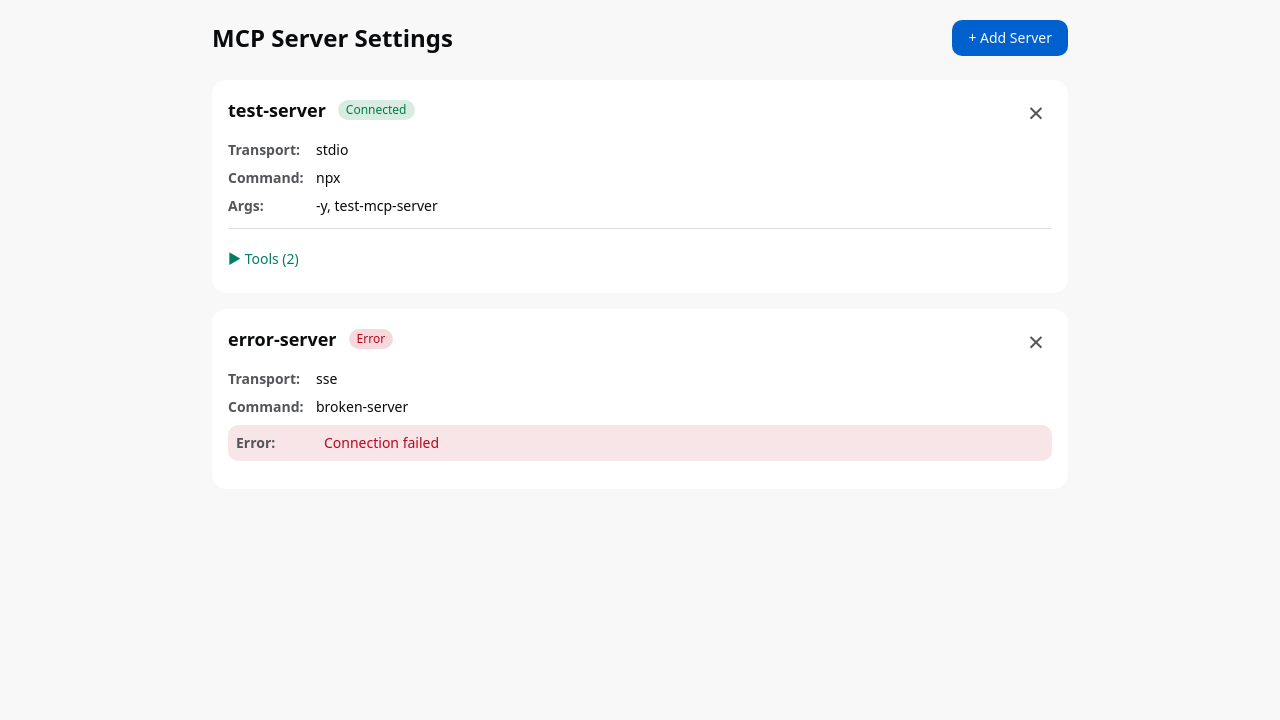
Test: MCPSettings › adding servers › should reset form after successful submission
This screenshot has width=1280, height=720.
Click the button "+ Add Server" at (1010, 38), box left=952, top=20, right=1068, bottom=56
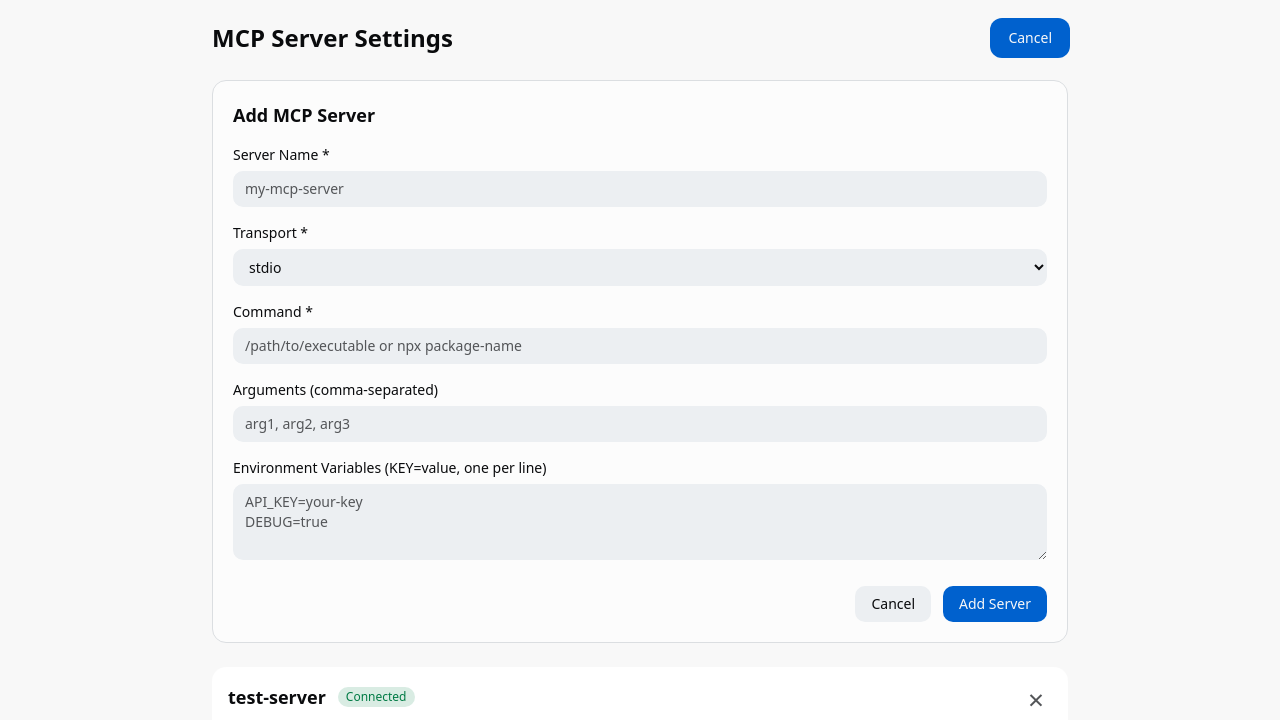
Type "test-server" into the field labelled "Server Name *" at (640, 189), box left=233, top=171, right=1047, bottom=207
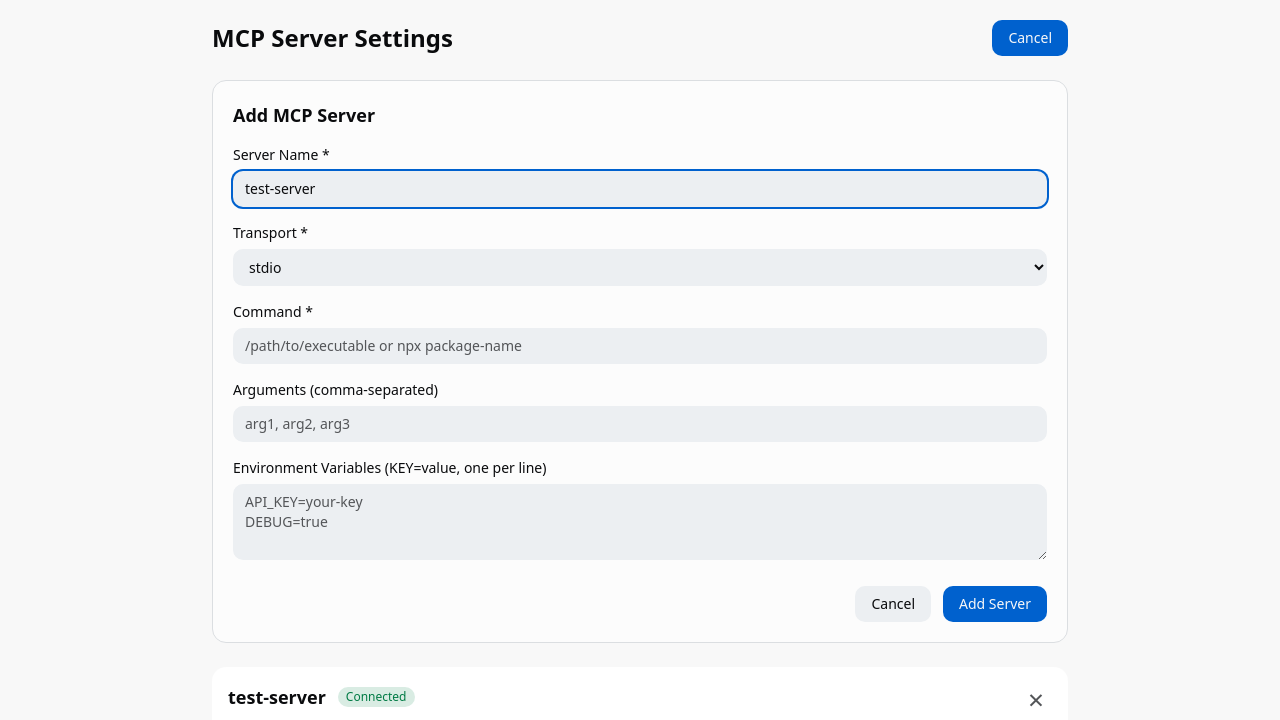
Type "test-cmd" into the field labelled "Command *" at (640, 346), box left=233, top=328, right=1047, bottom=364
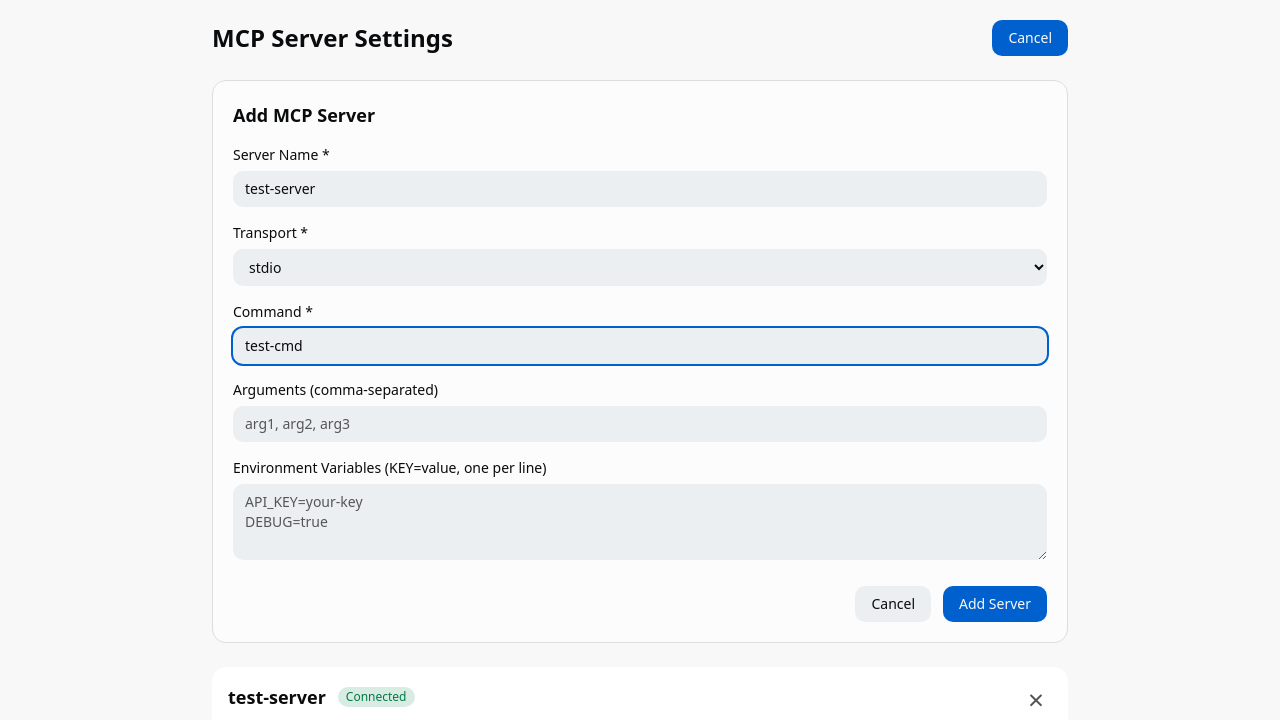
Type "arg1" into the field labelled "Arguments (comma-separated)" at (640, 424), box left=233, top=406, right=1047, bottom=442
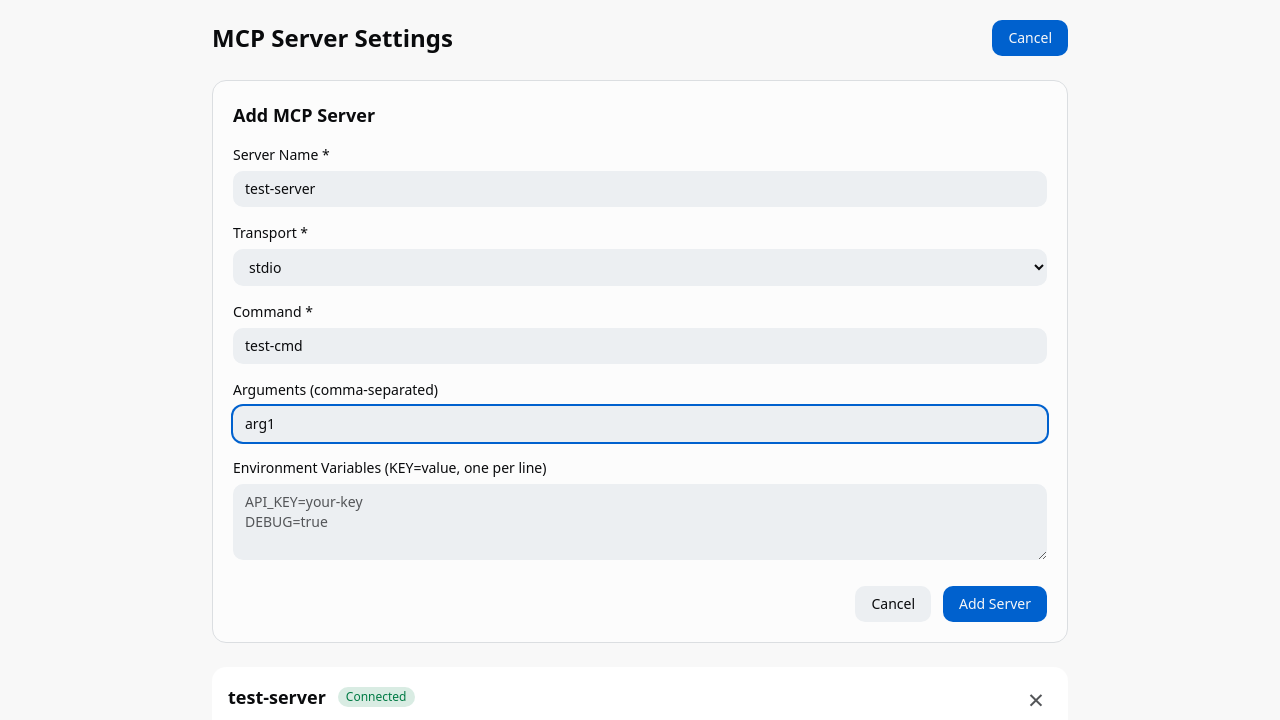
Click the button "Add Server" at (995, 604), box left=943, top=586, right=1047, bottom=622
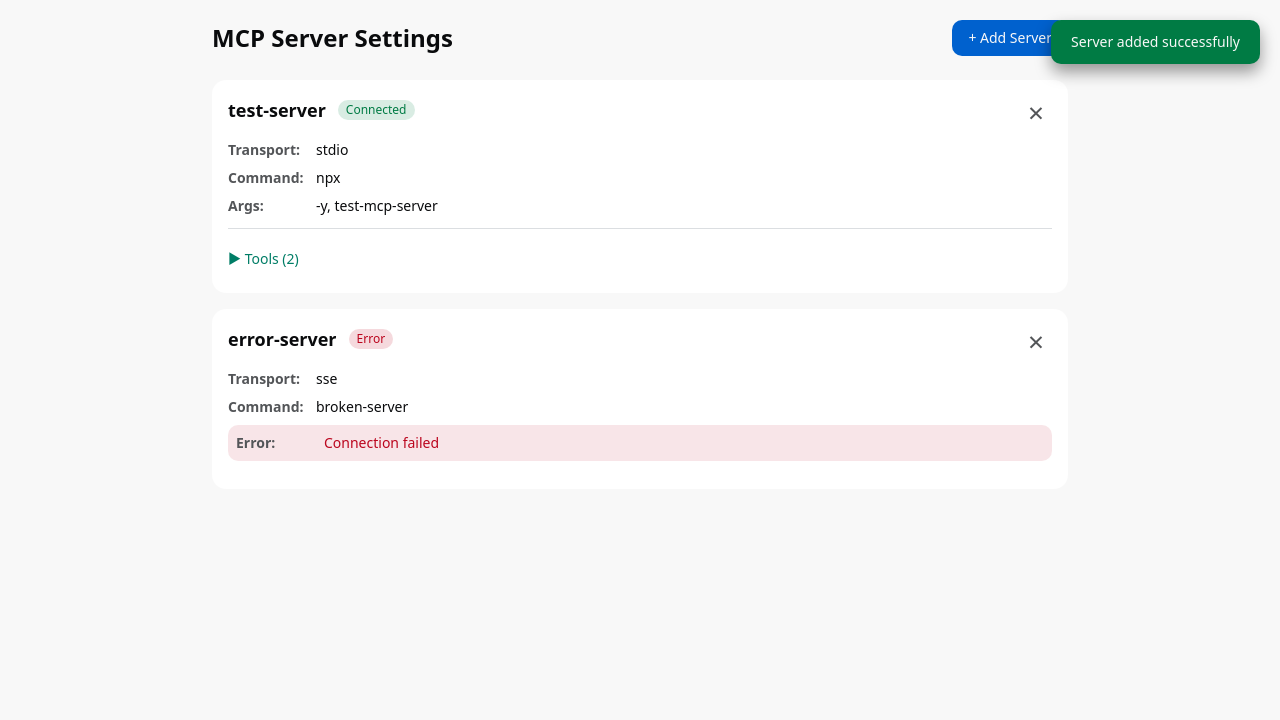
Expected: the heading "Add MCP Server" is gone
